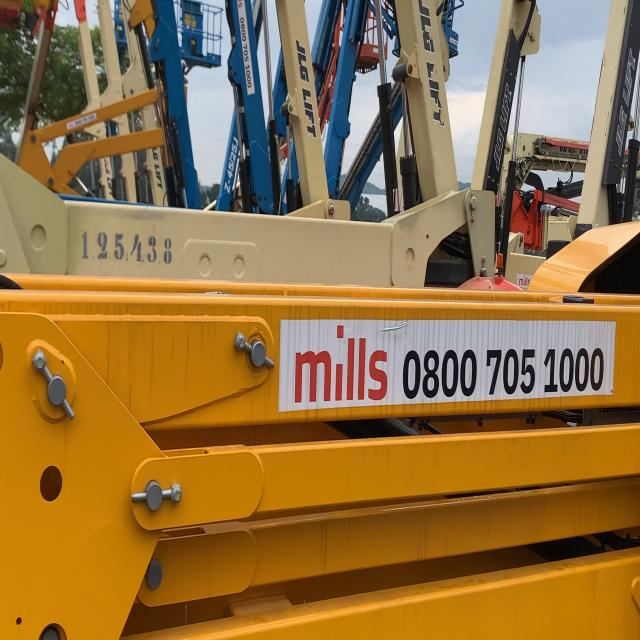Adesivo Longo: (277, 317, 618, 418)
